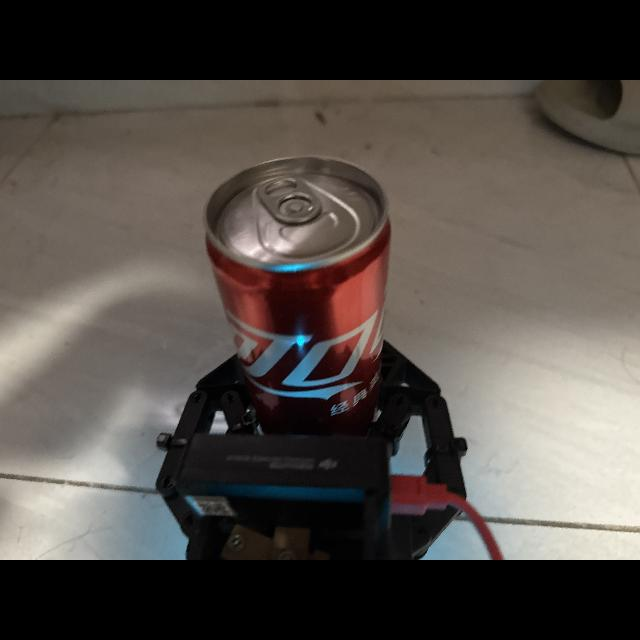Cola: (200, 146, 420, 412)
